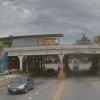Bridge: (4, 39, 95, 66)
